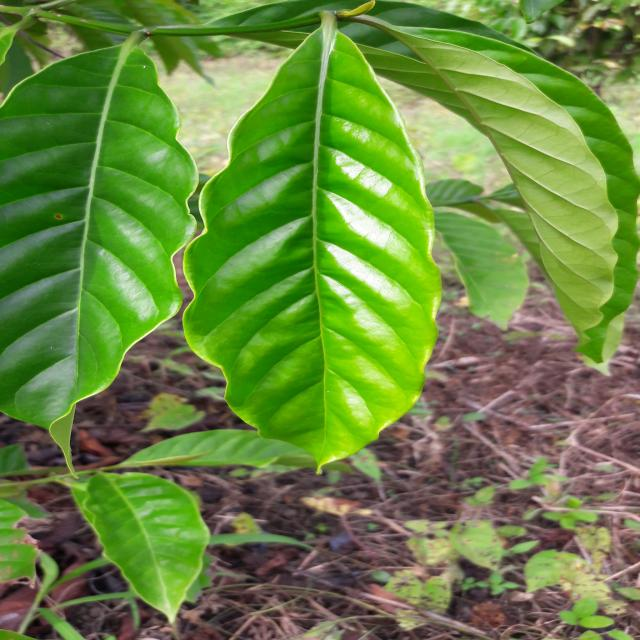Sanas: (182, 30, 441, 466)
